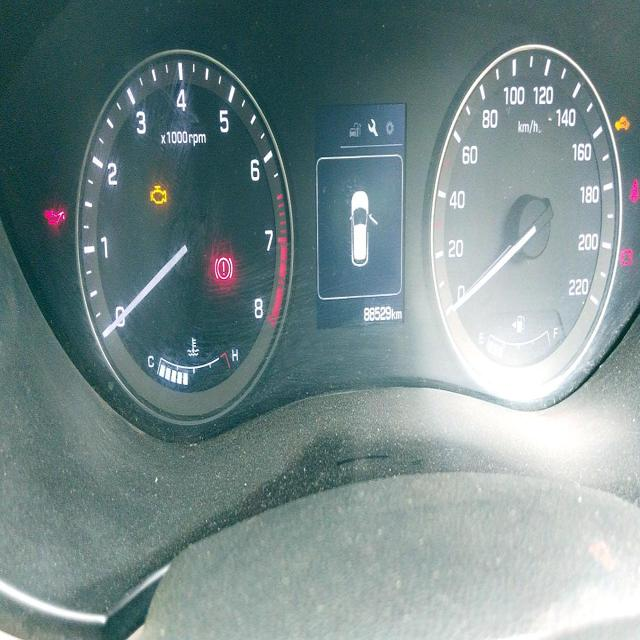odometer: (360, 302, 393, 326)
